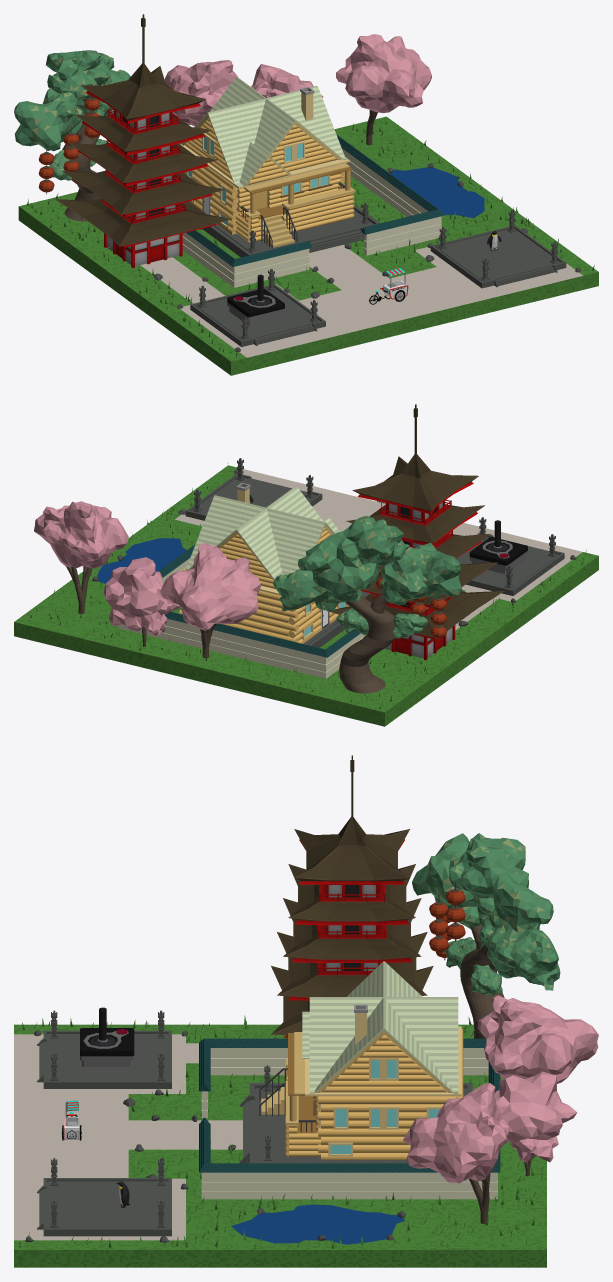
The picture shows the model from 3 angles, top to bottom: view 1: azimuth 30°, elevation 25°; view 2: azimuth 150°, elevation 25°; view 3: azimuth 270°, elevation 25°; orthographic projection. The views are drawn at different scales.
Visible parts, largest first — view 1: Cube.005, Cube.1516, OBJRANDOM_JOYSTICK, VEHICLES_SNOWBAL_BIKE; view 2: Cube.005, Cube.1516, OBJRANDOM_JOYSTICK; view 3: Cube.005, Cube.1516, OBJRANDOM_JOYSTICK.
Part boxes in pixels (box(x1,y1,x2,y2)): Cube.005: box(14, 14, 598, 375); Cube.1516: box(179, 77, 355, 248); OBJRANDOM_JOYSTICK: box(227, 274, 284, 325); VEHICLES_SNOWBAL_BIKE: box(369, 268, 408, 304); Cube.005: box(14, 404, 598, 726); Cube.1516: box(178, 482, 360, 643); OBJRANDOM_JOYSTICK: box(469, 520, 527, 574); Cube.005: box(14, 755, 598, 1267); Cube.1516: box(259, 961, 463, 1159); OBJRANDOM_JOYSTICK: box(80, 1007, 134, 1066).
Size of the model in its own units: 4528 by 2791 by 4389.
45 materials, 6 textured.
